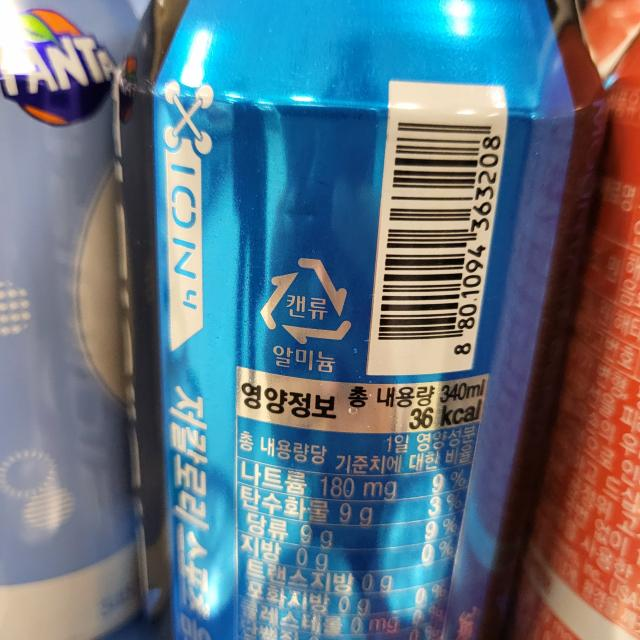Can: (259, 253, 353, 346)
